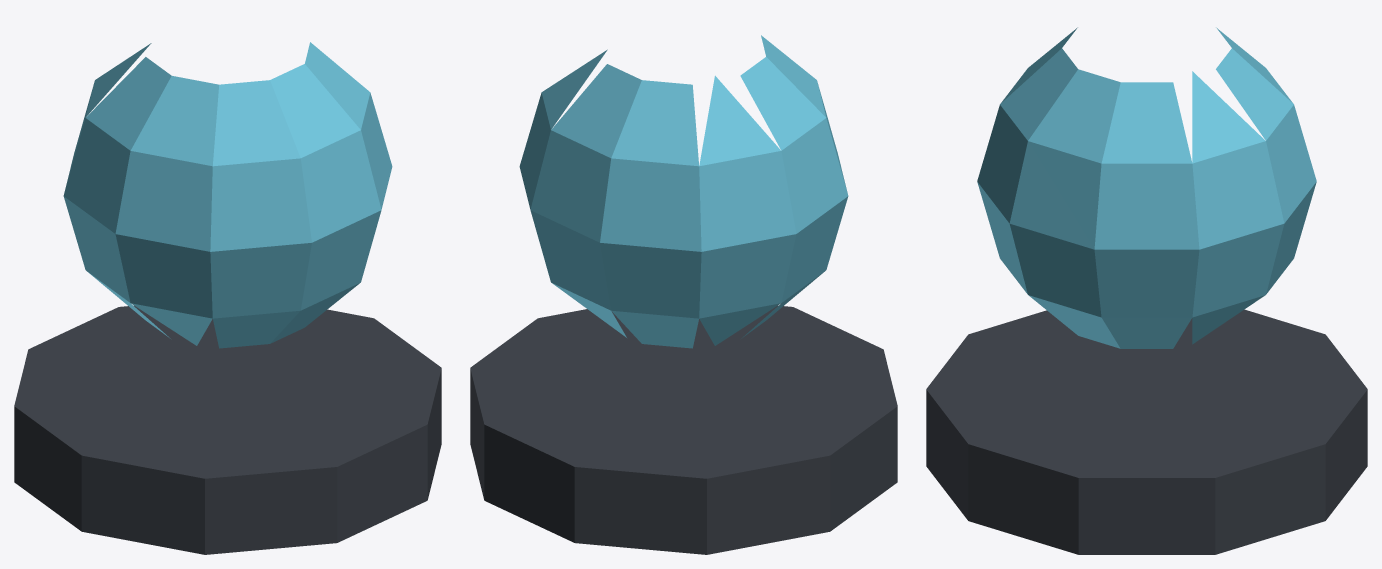
The model's file is mod-core.lod.glb.
3 renders of one model, left to right at view 1: azimuth 30°, elevation 25°; view 2: azimuth 150°, elevation 25°; view 3: azimuth 270°, elevation 25°, orthographic.
Parts seen in each view (by area): view 1: m; view 2: m; view 3: m.
Part boxes in pixels (x1,y1,x2,y2): m: [14, 42, 441, 554]; m: [470, 35, 897, 554]; m: [926, 27, 1367, 554].
Bounding box in the file's own units: 0.044 × 0.0487 × 0.0462.
